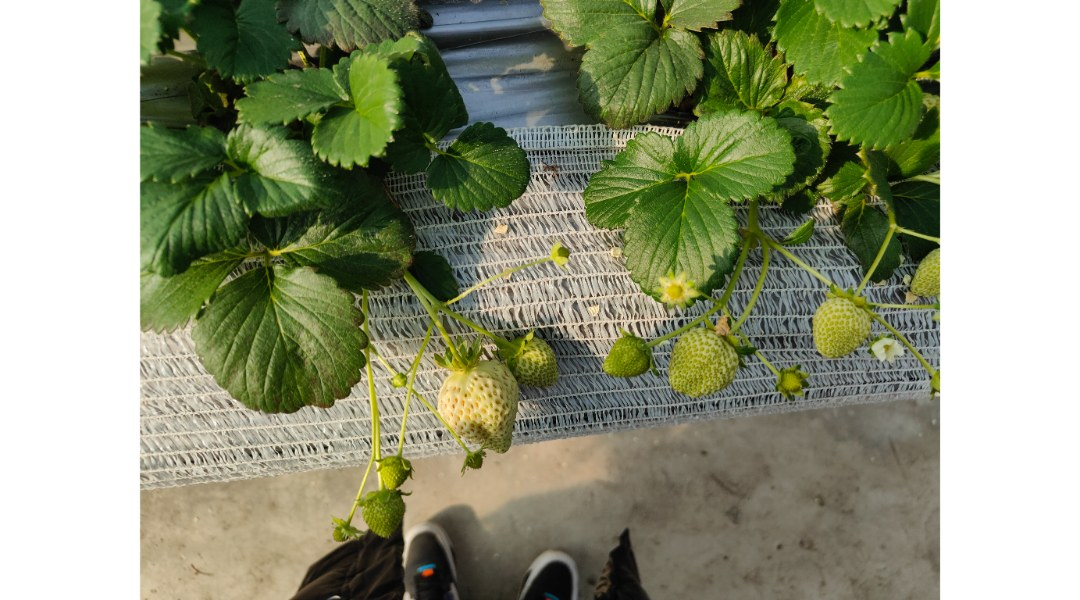berry: (434, 349, 528, 461), (813, 282, 880, 368), (661, 327, 740, 393), (498, 323, 566, 393), (906, 247, 956, 303), (654, 269, 705, 319), (598, 331, 650, 378), (368, 478, 403, 543), (766, 364, 816, 399), (374, 451, 416, 486), (326, 510, 359, 550), (457, 448, 486, 477), (543, 239, 572, 266), (384, 370, 405, 397)
flower: (868, 333, 906, 379)
strain: (445, 253, 544, 306), (728, 244, 772, 340), (874, 315, 934, 377), (356, 287, 375, 452), (774, 246, 839, 294), (718, 236, 750, 317), (415, 397, 466, 443), (855, 234, 892, 293), (345, 463, 370, 522), (634, 321, 703, 342), (901, 215, 944, 245), (434, 322, 460, 356), (393, 398, 406, 459)
